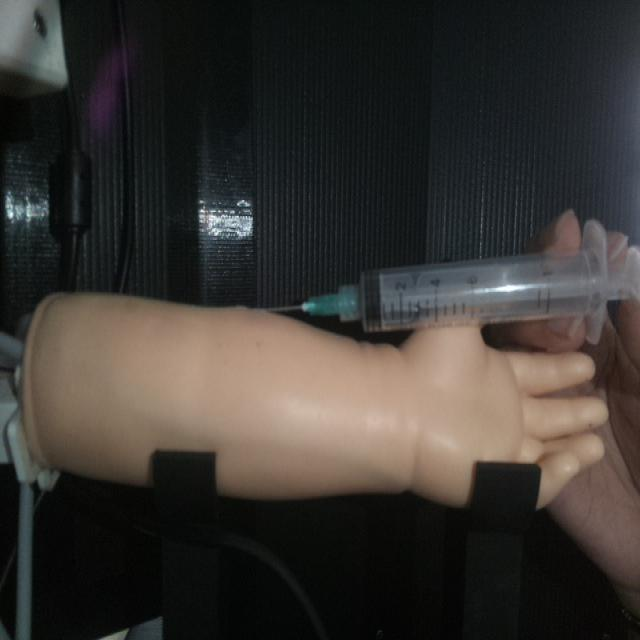Outside: (254, 217, 640, 353)
